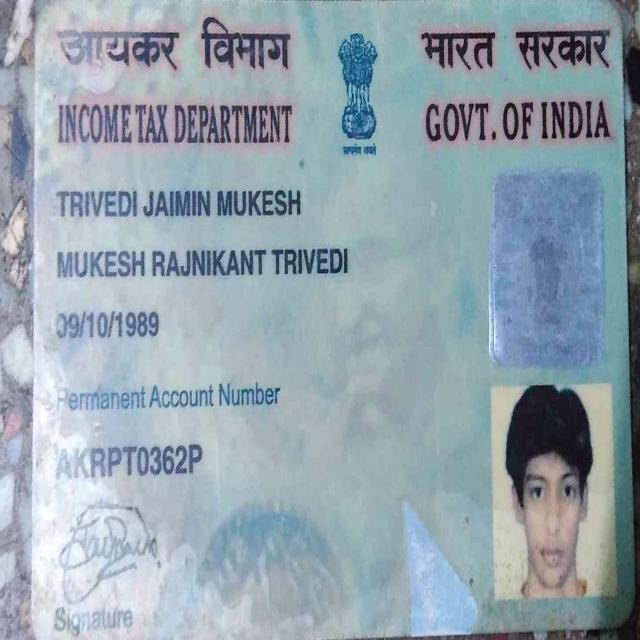pan_card: (32, 2, 633, 628)
